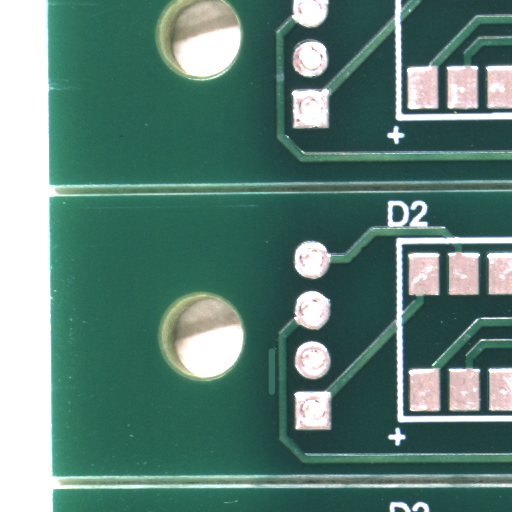Spurious_copper: (271, 371, 284, 422)
